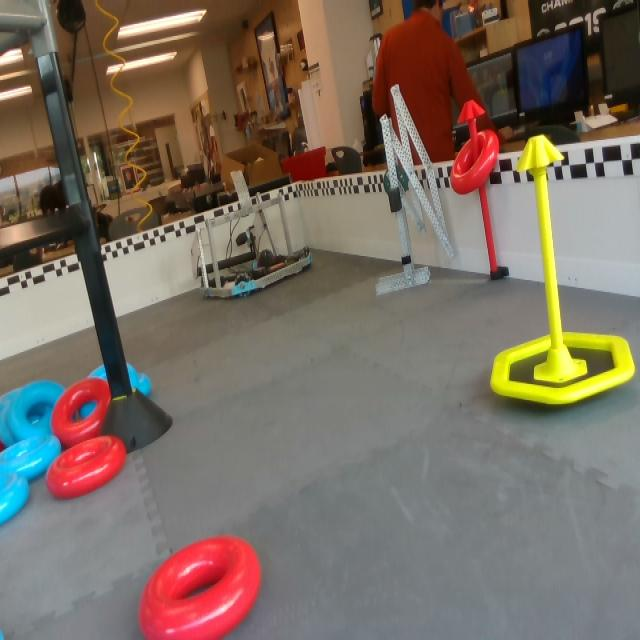Blue-Ring: (7, 381, 65, 441), (0, 435, 62, 483), (0, 473, 30, 527), (0, 391, 14, 453)
Mobile-Goal: (490, 136, 635, 408)
Red-Ring: (137, 537, 264, 639), (46, 432, 128, 503), (59, 382, 111, 443), (450, 130, 499, 193)
Yellow-Stake-Head: (516, 136, 564, 171)
zred-Stake-Head: (457, 100, 485, 123)
